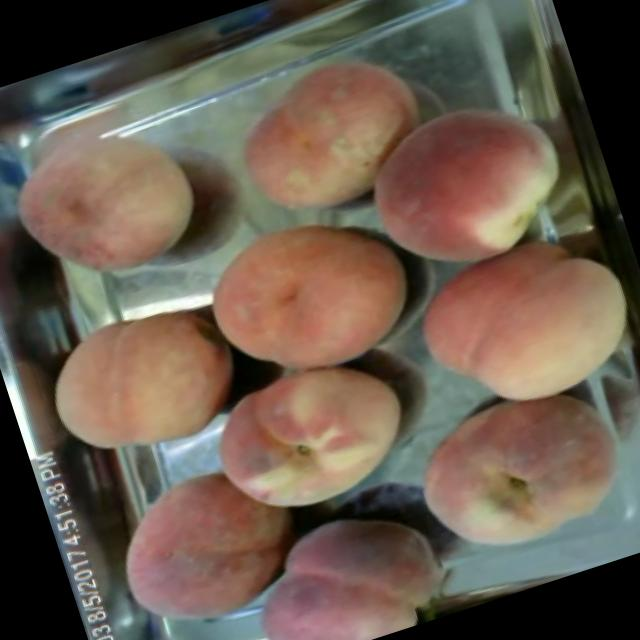Fruit: (380, 348, 640, 595), (384, 198, 640, 444), (342, 71, 596, 301), (182, 332, 444, 551), (181, 180, 434, 398), (207, 23, 452, 246), (0, 71, 224, 314), (81, 432, 333, 640), (15, 276, 258, 489), (221, 474, 472, 640)
